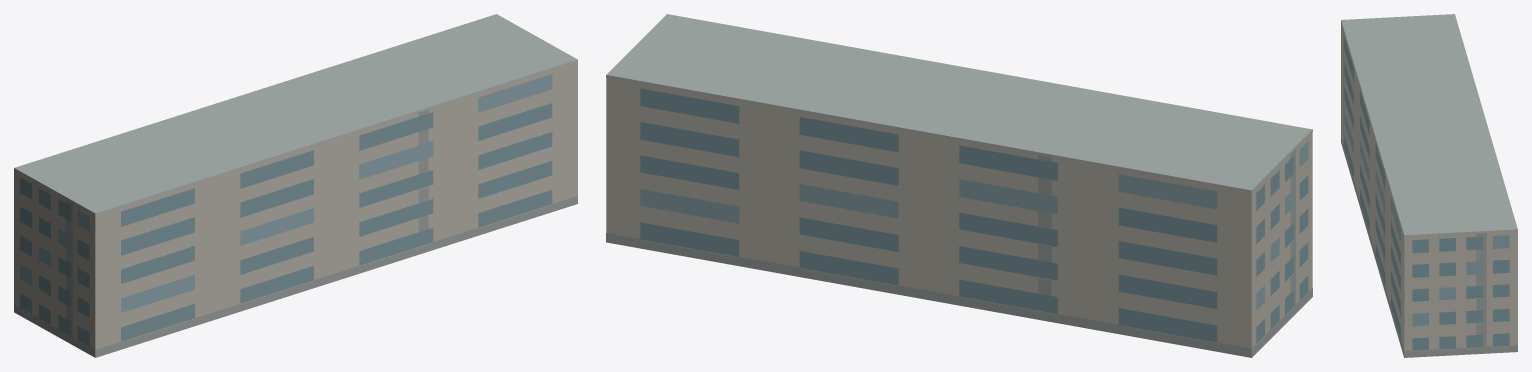
Rendered from residential-4209c2c9-a394-48bf-a862-4fd239ab3a35.glb.
The picture shows the model from 3 angles, left to right: view 1: azimuth 30°, elevation 25°; view 2: azimuth 150°, elevation 25°; view 3: azimuth 270°, elevation 25°; orthographic projection. The views are drawn at different scales.
Parts seen in each view (by area): view 1: residential-4209c2c9-a394-48bf-a862-4fd239ab3a35.tmp; view 2: residential-4209c2c9-a394-48bf-a862-4fd239ab3a35.tmp; view 3: residential-4209c2c9-a394-48bf-a862-4fd239ab3a35.tmp.
Part boxes in pixels (left/top/right/bottom): residential-4209c2c9-a394-48bf-a862-4fd239ab3a35.tmp: left=14, top=14, right=577, bottom=357; residential-4209c2c9-a394-48bf-a862-4fd239ab3a35.tmp: left=606, top=14, right=1312, bottom=357; residential-4209c2c9-a394-48bf-a862-4fd239ab3a35.tmp: left=1341, top=14, right=1517, bottom=357.
Size of the model in its own units: 58.98 by 15.25 by 19.93.
